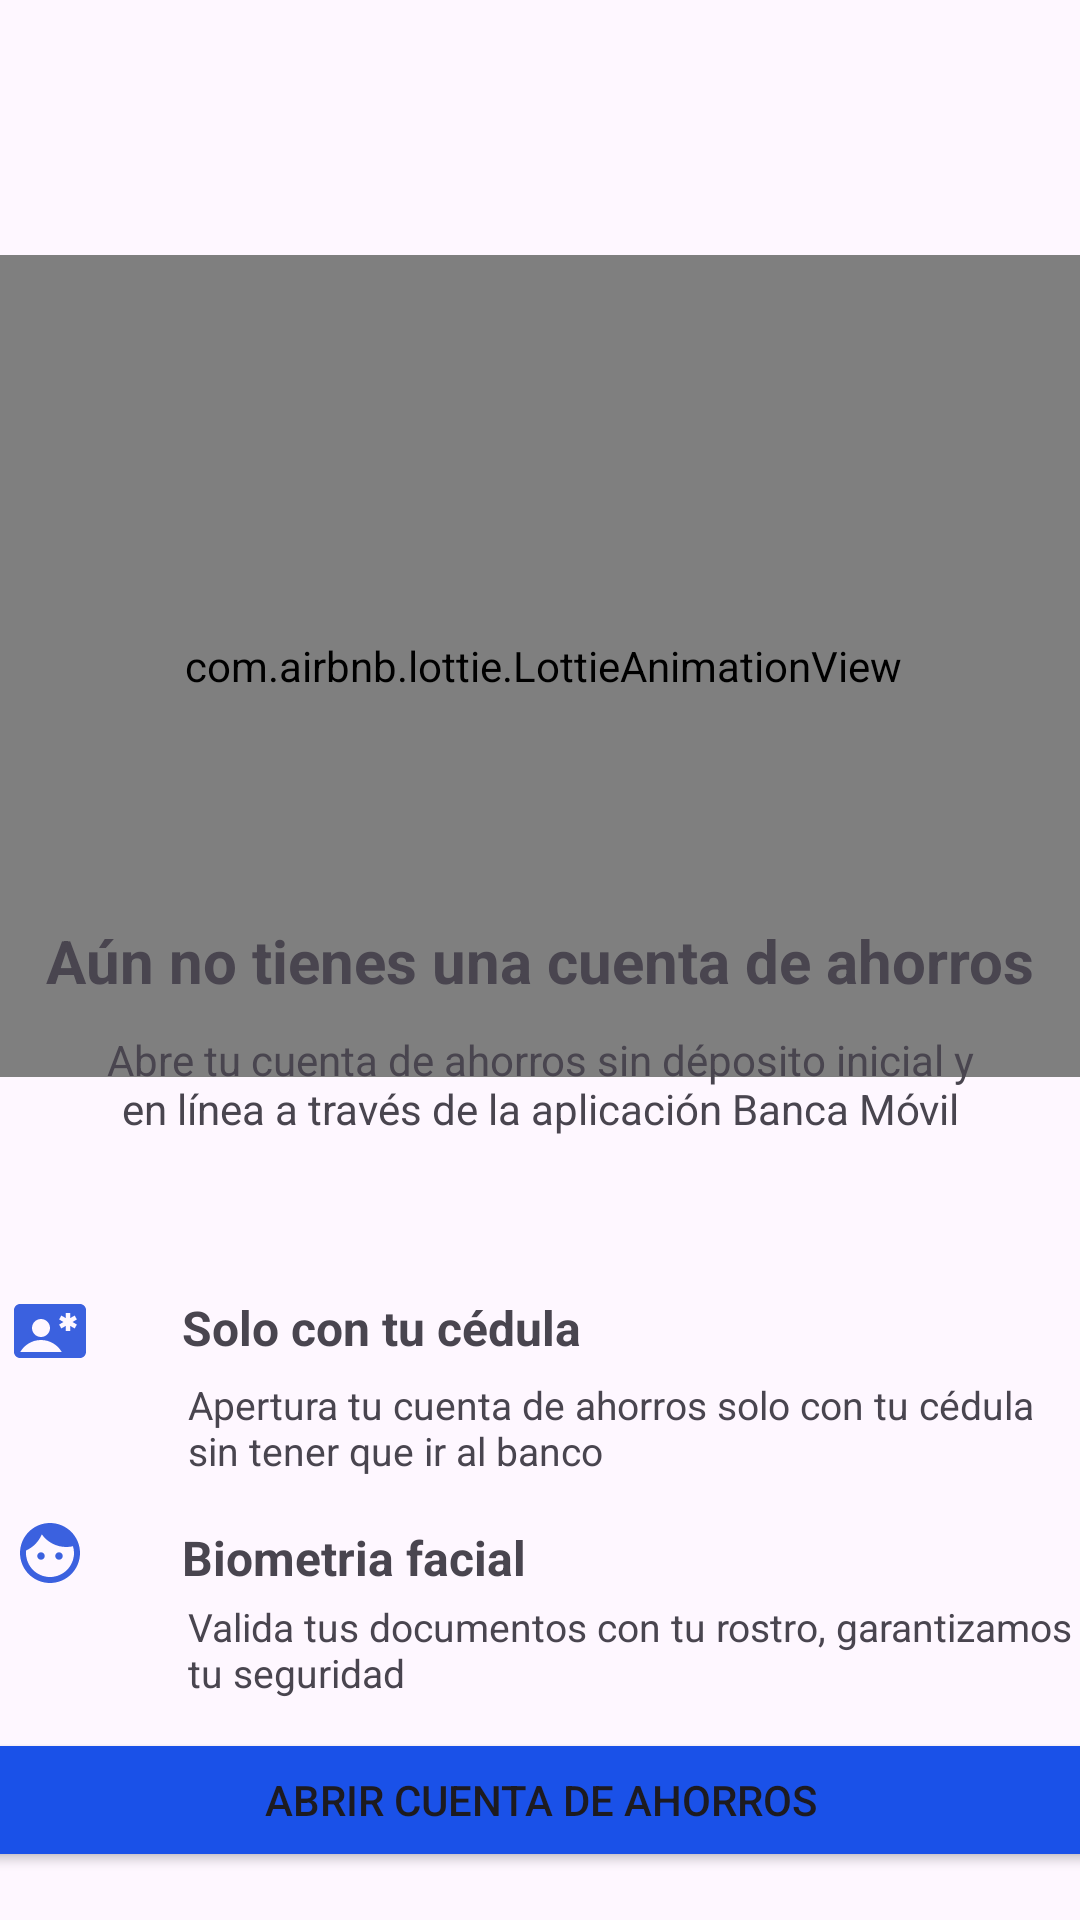

Icons on this 1080w x 1920h Android screen, each with the point to tap as (x,y):
bio: (50,1553)
